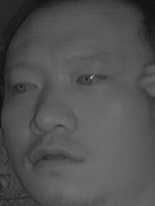eye: (76, 68, 107, 88), (11, 75, 40, 95)
mouth: (26, 139, 82, 173)
